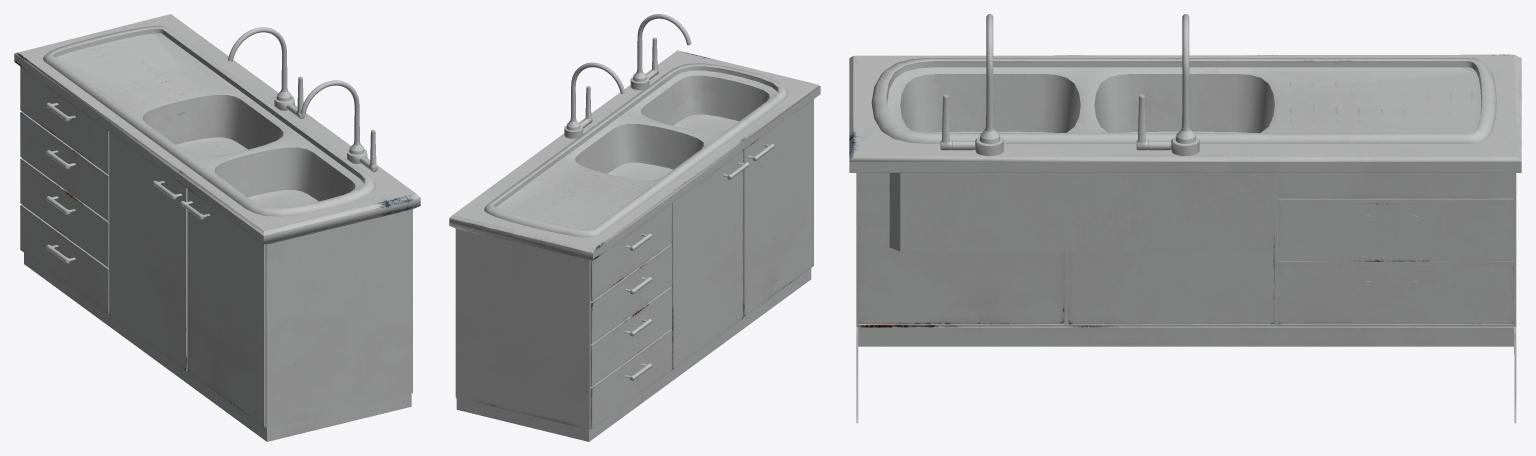
File: Prop_Metal_WashBasin.fbx
3 renders of one model, left to right at view 1: azimuth 30°, elevation 25°; view 2: azimuth 150°, elevation 25°; view 3: azimuth 270°, elevation 25°, orthographic. The views are drawn at different scales.
Parts seen in each view (by area): view 1: Prop_Metal_WashBasin; view 2: Prop_Metal_WashBasin; view 3: Prop_Metal_WashBasin.
Part boxes in pixels (x1=…): Prop_Metal_WashBasin: x1=14, y1=14, x2=420, y2=441; Prop_Metal_WashBasin: x1=449, y1=14, x2=820, y2=441; Prop_Metal_WashBasin: x1=849, y1=14, x2=1521, y2=423.
Bounding box in the file's own units: 32.2 × 55.94 × 84.86.
